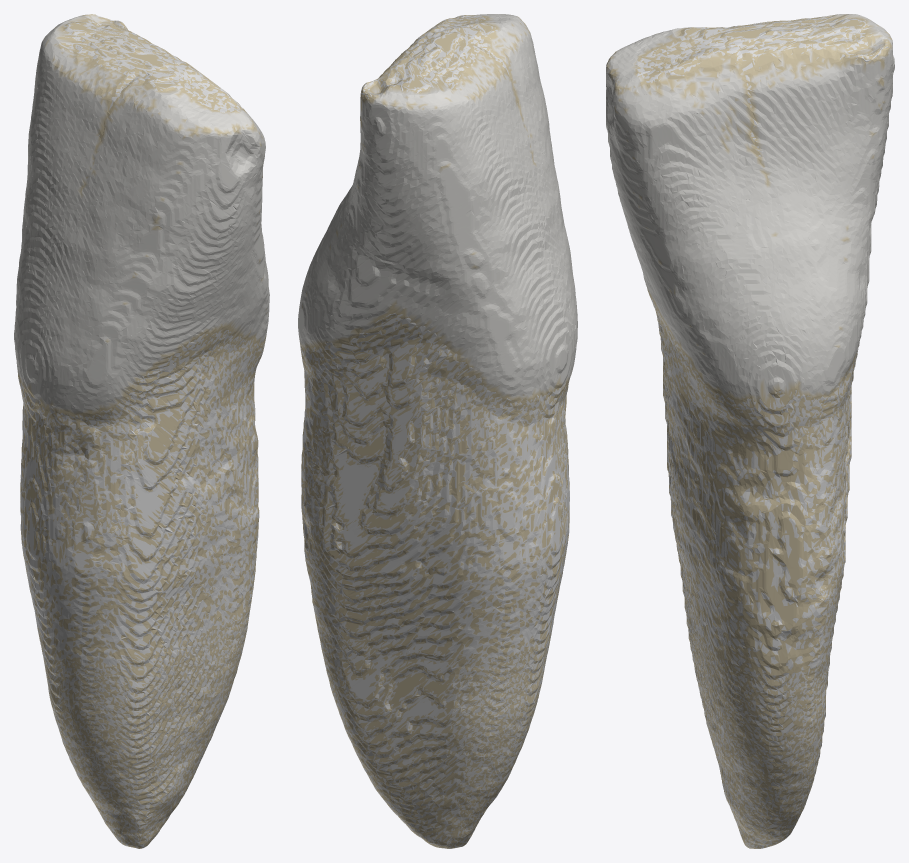
File: scan4.glb
The picture shows the model from 3 angles, left to right: view 1: azimuth 30°, elevation 25°; view 2: azimuth 150°, elevation 25°; view 3: azimuth 270°, elevation 25°; orthographic projection. The views are drawn at different scales.
Visible parts, largest first — view 1: externe, dentine; view 2: externe, dentine; view 3: externe, dentine.
Boxes of the visible parts, x1,y1,x2,y2 form: externe: [14, 14, 269, 848]; dentine: [18, 14, 264, 848]; externe: [298, 14, 577, 848]; dentine: [300, 15, 569, 848]; externe: [606, 14, 894, 848]; dentine: [635, 15, 888, 848].
Bounding box in the file's own units: 0.0058 × 0.0184 × 0.00588.
